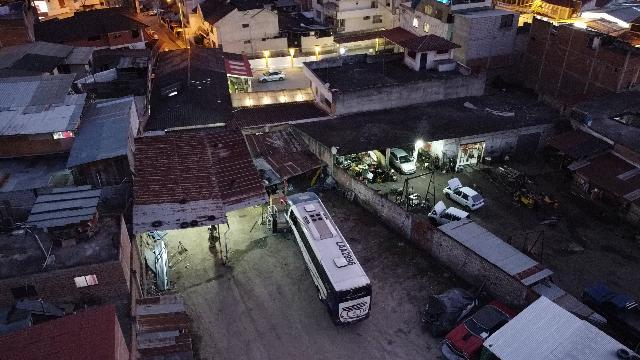Vehiculo: (441, 300, 517, 360), (581, 285, 640, 339), (442, 178, 483, 210), (428, 200, 470, 226), (389, 148, 417, 174), (258, 70, 286, 82), (148, 8, 164, 16)
